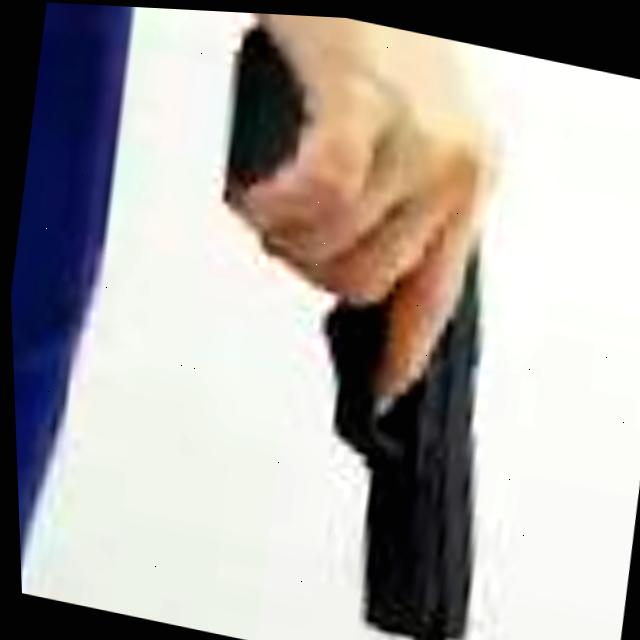pistol: (136, 6, 558, 640), (221, 10, 507, 640)
